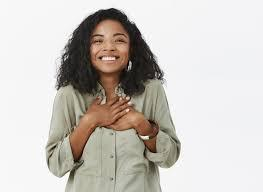person: (61, 4, 159, 77)
